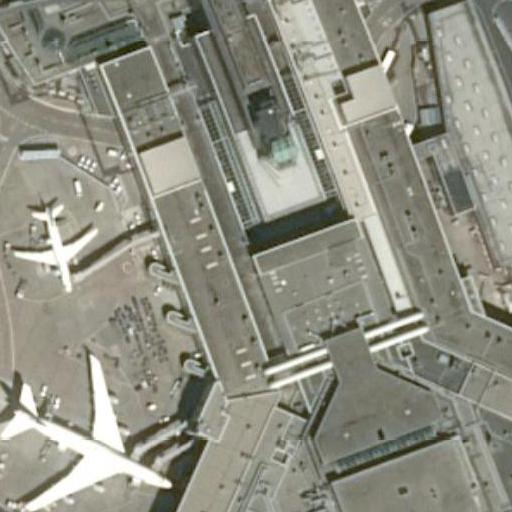Aircraft: (0, 343, 175, 512), (4, 194, 102, 293)
